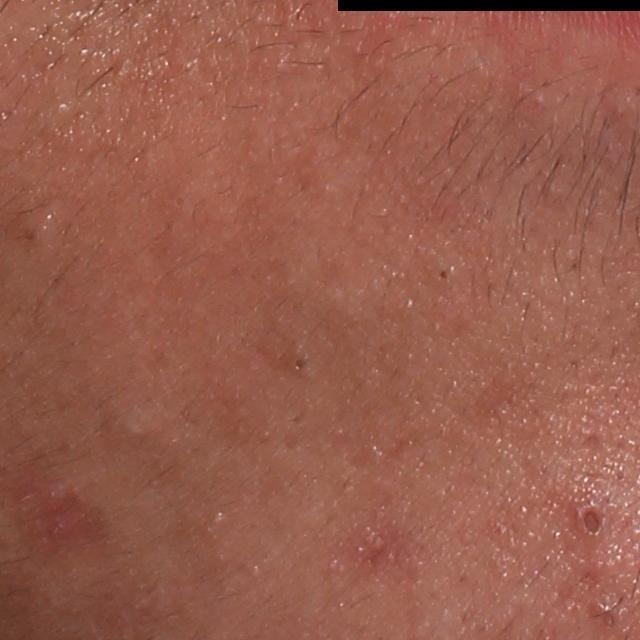comedo: (571, 493, 612, 546), (286, 345, 321, 379), (427, 261, 456, 290)
